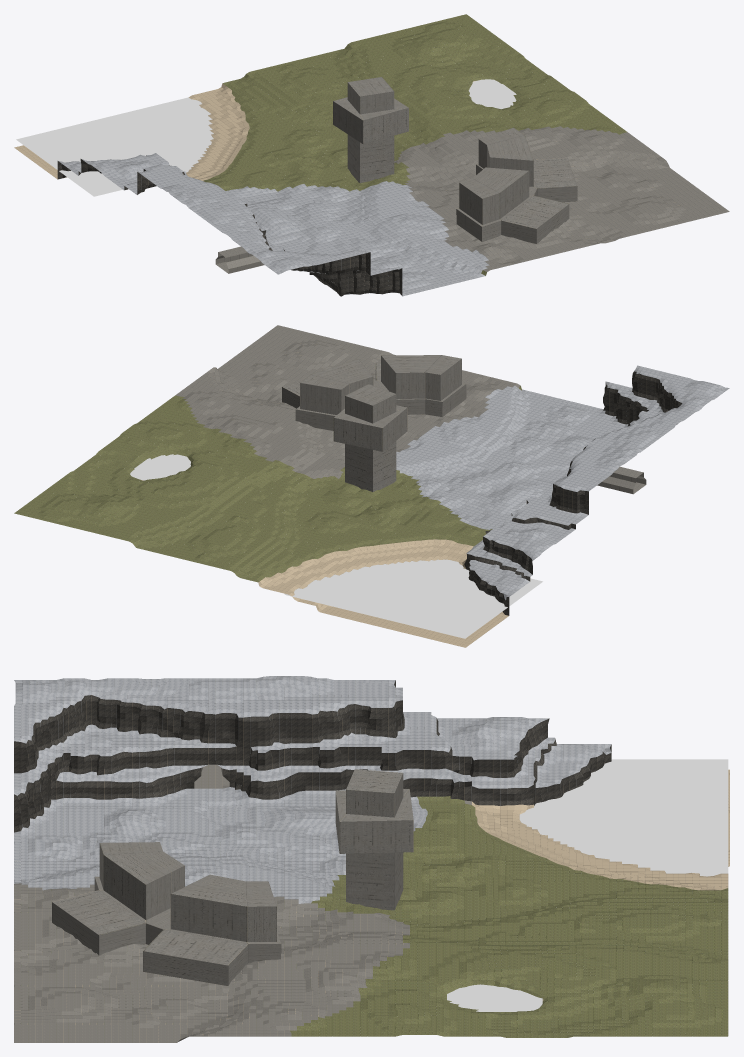
File: map.fbx
The picture shows the model from 3 angles, top to bottom: view 1: azimuth 30°, elevation 25°; view 2: azimuth 150°, elevation 25°; view 3: azimuth 270°, elevation 25°; orthographic projection. The views are drawn at different scales.
Parts seen in each view (by area): view 1: Ground, Cube, Water, Huge, ForestWater; view 2: Ground, Water, Cube, Huge, ForestWater; view 3: Ground, Cube, Water, Huge, ForestWater.
Boxes of the visible parts, x1,y1,x2,y2 form: Ground: (14,14,729,296); Cube: (456,127,577,243); Water: (16,97,213,196); Huge: (333,77,408,182); ForestWater: (468,79,516,109); Ground: (14,325,729,647); Water: (284,559,542,638); Cube: (282,355,466,430); Huge: (333,384,407,491); ForestWater: (130,454,190,480); Ground: (14,676,729,1042); Cube: (52,842,281,985); Water: (519,759,728,876); Huge: (335,769,413,910); ForestWater: (447,984,542,1011).
Bounding box in the file's own units: 100 × 21.5 × 101.
